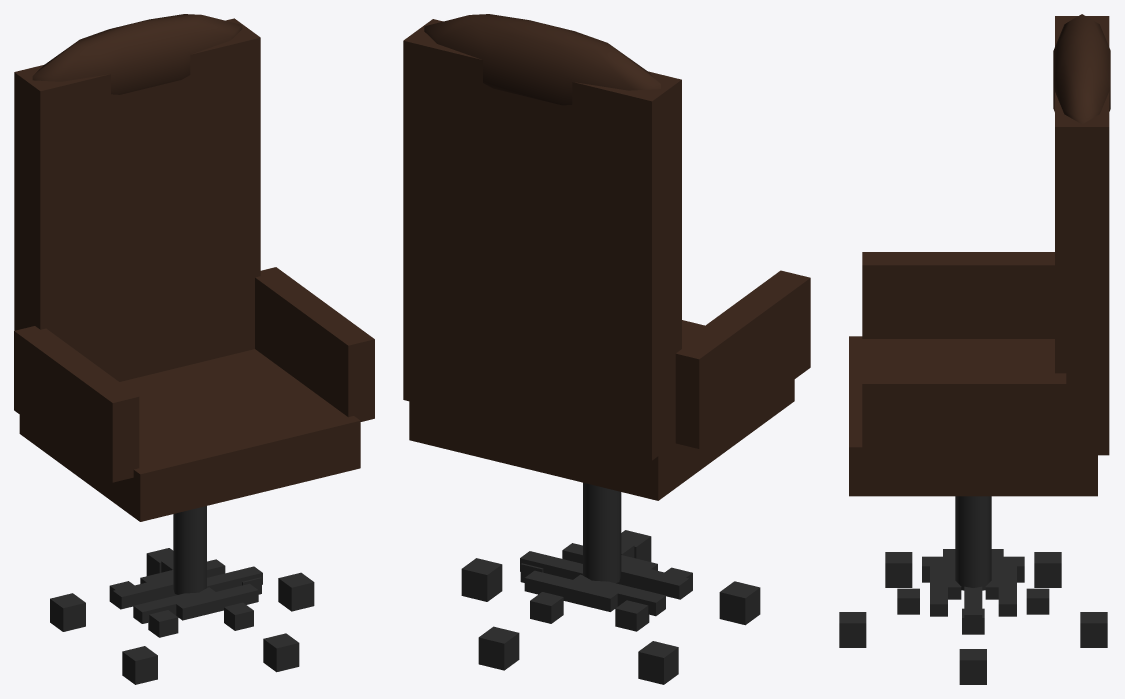
The model's file is chair_exec.glb.
The picture shows the model from 3 angles, left to right: view 1: azimuth 30°, elevation 25°; view 2: azimuth 150°, elevation 25°; view 3: azimuth 270°, elevation 25°; orthographic projection. The views are drawn at different scales.
Parts seen in each view (by area): view 1: exec_chair; view 2: exec_chair; view 3: exec_chair.
Boxes of the visible parts, x1=… form: exec_chair: x1=14, y1=14, x2=374, y2=684; exec_chair: x1=403, y1=14, x2=810, y2=684; exec_chair: x1=839, y1=14, x2=1110, y2=684.
Bounding box in the file's own units: 0.69 × 1.43 × 0.5996.
